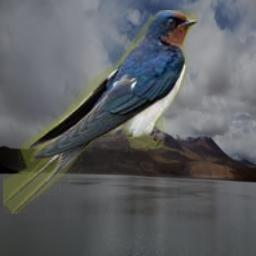Swallow: (3, 10, 198, 214)
